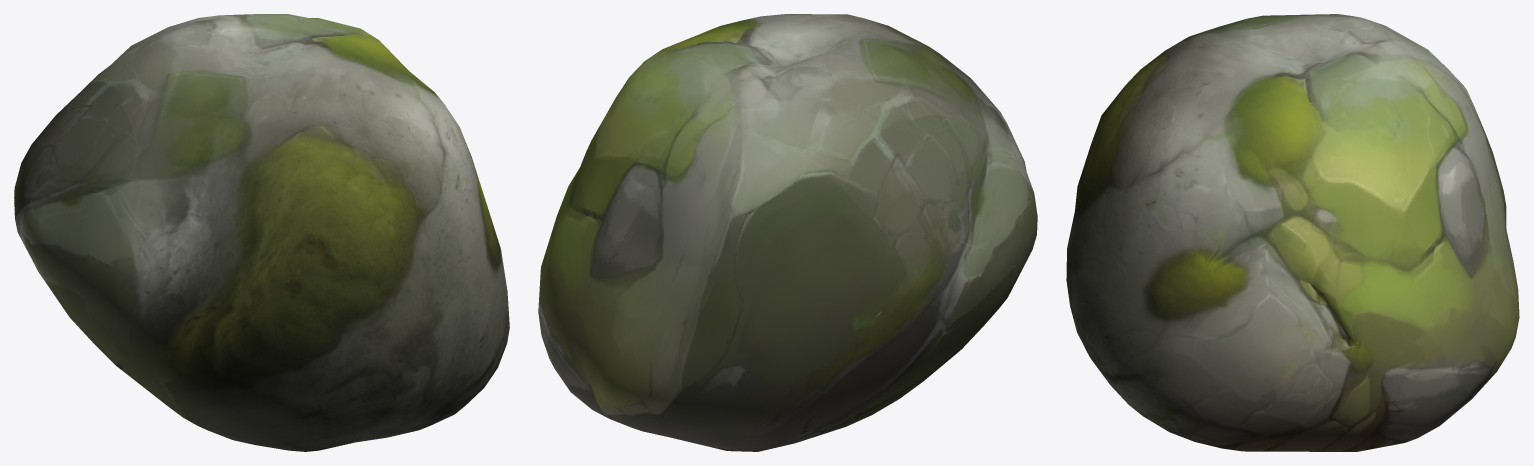
Rendered from rock_5.glb.
3 renders of one model, left to right at view 1: azimuth 30°, elevation 25°; view 2: azimuth 150°, elevation 25°; view 3: azimuth 270°, elevation 25°, orthographic. The views are drawn at different scales.
Parts seen in each view (by area): view 1: Body; view 2: Body; view 3: Body.
Part boxes in pixels (box(x1,y1,x2,y2)): Body: box(14, 14, 509, 451); Body: box(538, 14, 1037, 451); Body: box(1066, 14, 1519, 451).
Size of the model in its own units: 1.31 by 1.1 by 1.31.
Materials: 1 (1 with a texture image).
